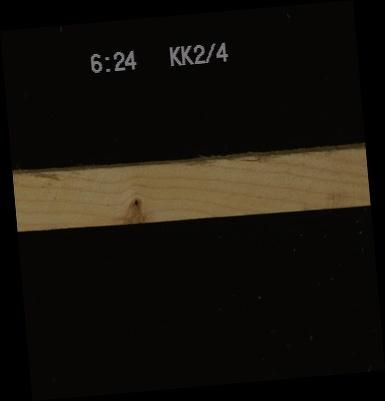small_knot: (131, 197, 140, 207)
split: (236, 155, 261, 164)
